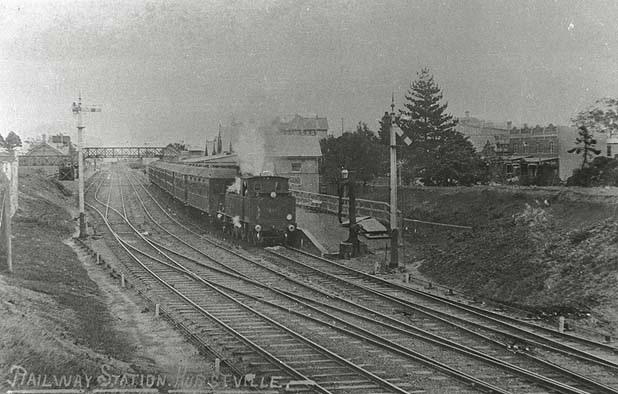Train: (147, 161, 299, 247)
